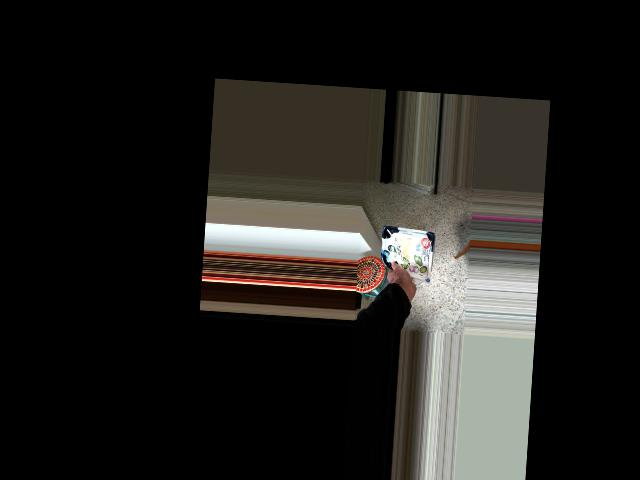cheese: (371, 227, 442, 298)
